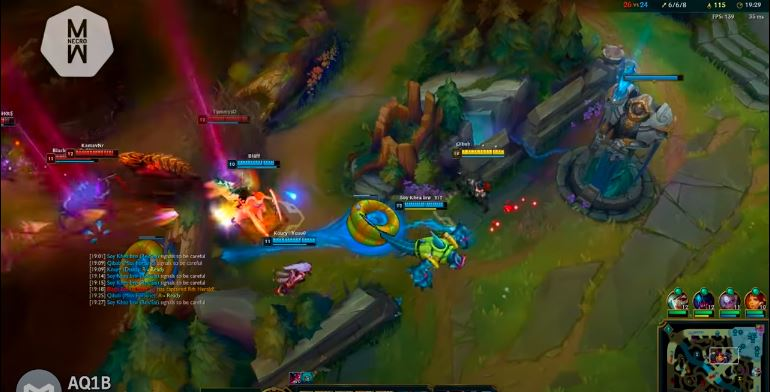bar: (450, 146, 512, 160), (392, 198, 449, 212), (260, 236, 319, 249), (196, 113, 254, 126), (225, 158, 283, 171), (65, 146, 121, 159), (43, 153, 104, 164), (1, 116, 19, 127)
